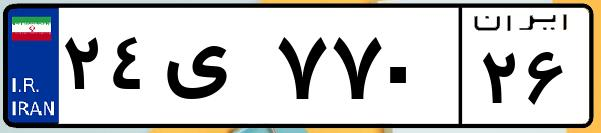0: (385, 28, 445, 110)
2: (57, 26, 110, 100), (475, 38, 525, 113)
4: (110, 28, 158, 98)
6: (525, 38, 570, 115)
7: (270, 28, 330, 110), (330, 28, 385, 110)
ی: (158, 20, 270, 120)
